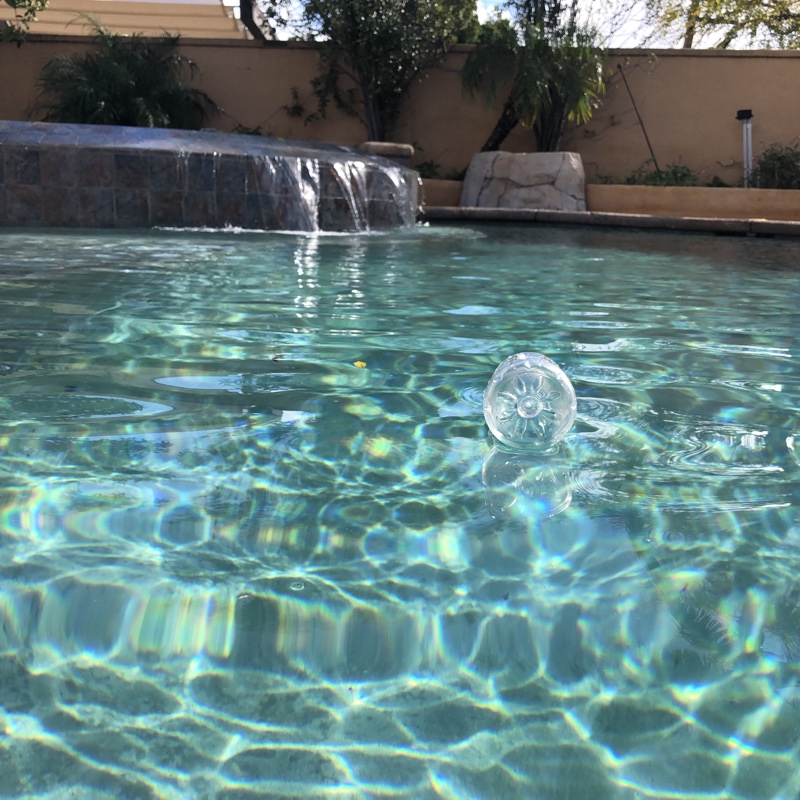Plastic Bottle: (478, 341, 580, 466)
